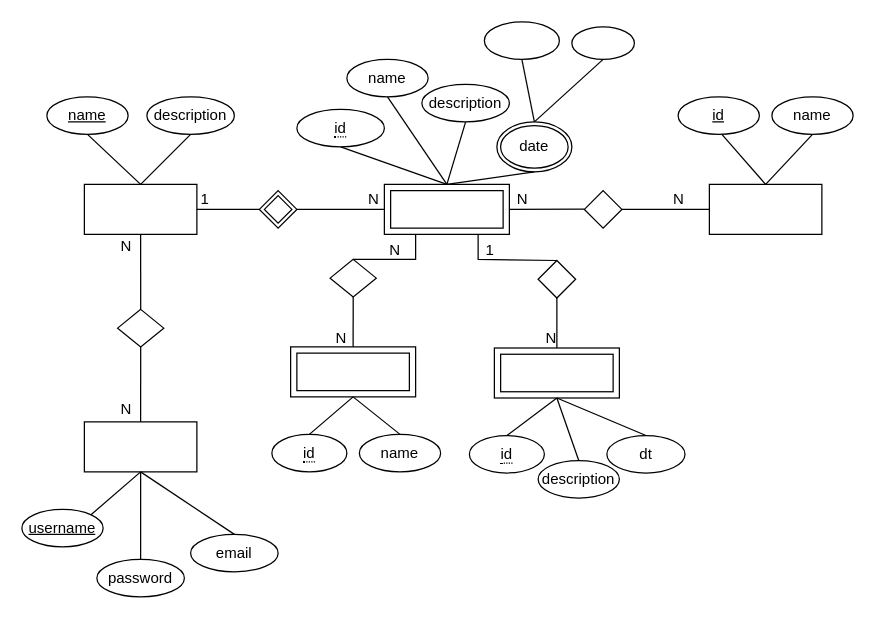
Image size: 875x619. Some labels were removed from this diagram. Here are the shapes that lost their labels. From the top down, the box of each, then its label:
(483, 21, 559, 59): creation
(571, 26, 634, 59): close
(83, 183, 197, 234): PROJECT
(383, 183, 509, 234): ISSUE
(708, 183, 822, 234): LABEL
(289, 346, 416, 397): STATE
(493, 347, 619, 398): COMMENT
(83, 421, 197, 472): GIT_USER
